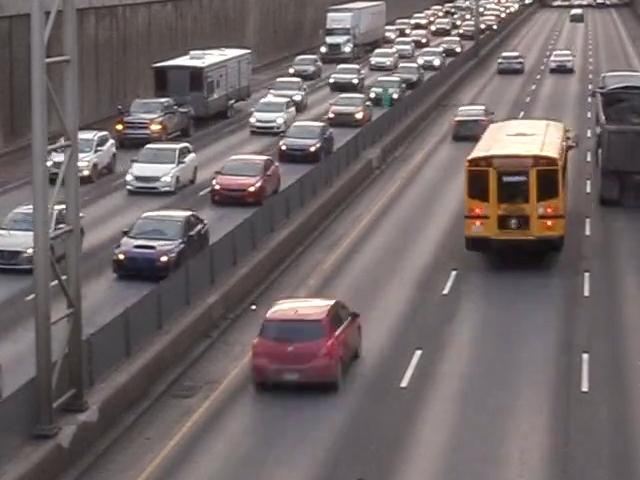bus: (449, 117, 571, 274)
car: (245, 292, 380, 397), (103, 203, 212, 298), (0, 201, 89, 279), (202, 150, 292, 213), (40, 125, 127, 190), (120, 140, 203, 200), (448, 93, 500, 147), (278, 123, 335, 162), (329, 91, 380, 126), (268, 74, 312, 105), (253, 98, 294, 129), (491, 51, 530, 78), (327, 62, 364, 89), (290, 52, 324, 77), (376, 77, 409, 102), (549, 48, 579, 71), (394, 60, 423, 82), (370, 48, 400, 69), (396, 38, 423, 61), (421, 52, 448, 74), (442, 36, 464, 55), (411, 30, 431, 46)
pickup-truck: (120, 87, 197, 144)
truck: (588, 68, 640, 208), (319, 1, 392, 57)
